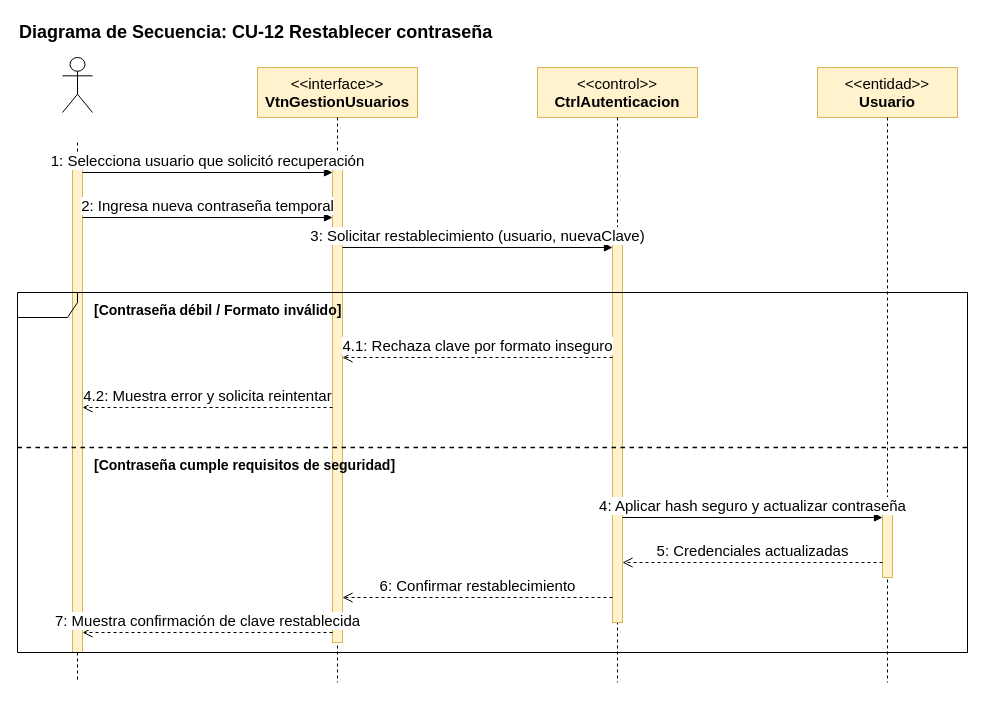
Image size: 987x701. Some labels were removed from this diagram. Each missing label, with the box of its shape:
Administrador: (62, 56, 92, 112)
Alt: (16, 292, 968, 652)
